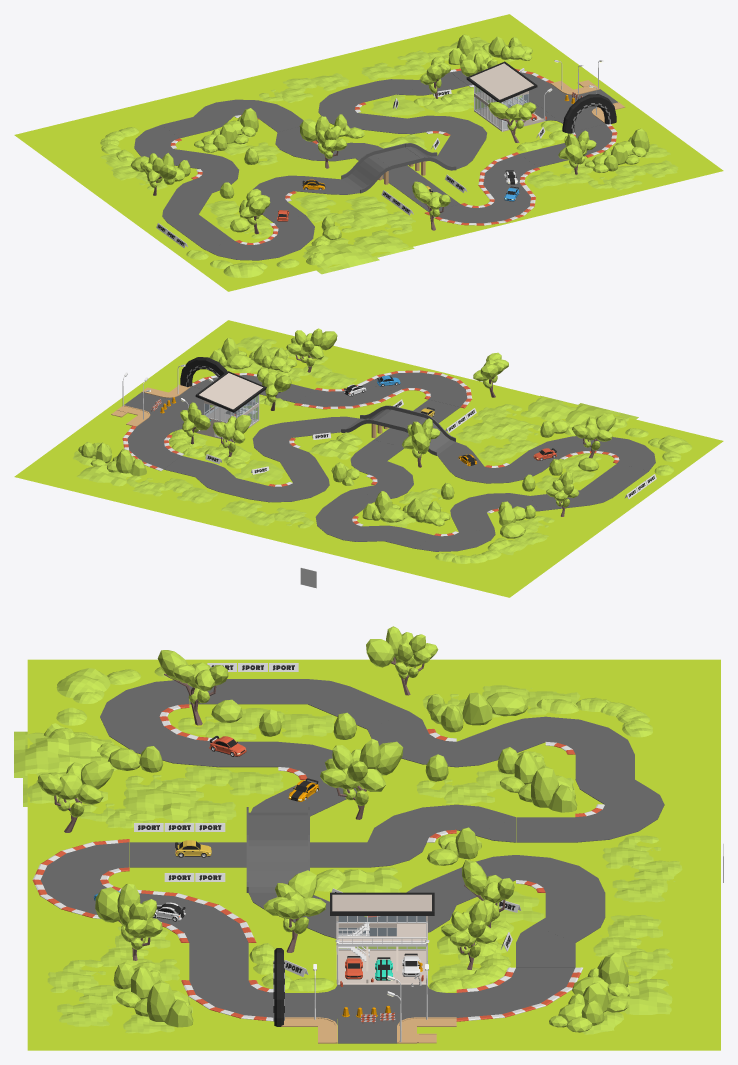
Rendered from track.glb.
3 views of the same model, one above another, from view 1: azimuth 30°, elevation 25°; view 2: azimuth 150°, elevation 25°; view 3: azimuth 270°, elevation 25° (orthographic). The views are drawn at different scales.
Parts seen in each view (by area): view 1: green_2, green, asphalt, wall, white, black, red, concrite, metal, glass, brown; view 2: green_2, green, asphalt, white, wall, black, red, concrite, metal, glass, brown; view 3: green_2, green, asphalt, white, wall, red, black, metal, concrite, brown, glass.
Part boxes in pixels (bbox=[...]): green_2: bbox=[14, 14, 723, 291]; green: bbox=[100, 34, 678, 277]; asphalt: bbox=[134, 70, 617, 260]; wall: bbox=[470, 63, 544, 131]; white: bbox=[156, 69, 616, 248]; black: bbox=[157, 61, 616, 245]; red: bbox=[170, 68, 617, 244]; concrite: bbox=[378, 80, 625, 184]; metal: bbox=[474, 60, 603, 131]; glass: bbox=[475, 86, 528, 129]; brown: bbox=[153, 71, 581, 233]; green_2: bbox=[14, 320, 723, 597]; green: bbox=[73, 328, 691, 563]; asphalt: bbox=[124, 372, 655, 551]; white: bbox=[123, 370, 656, 536]; wall: bbox=[196, 373, 262, 440]; black: bbox=[180, 357, 654, 497]; red: bbox=[122, 370, 618, 536]; concrite: bbox=[111, 384, 409, 437]; metal: bbox=[122, 364, 259, 441]; glass: bbox=[205, 395, 257, 437]; brown: bbox=[151, 355, 597, 516]; green_2: bbox=[27, 659, 720, 1050]; green: bbox=[14, 626, 682, 1034]; asphalt: bbox=[40, 679, 664, 1043]; white: bbox=[33, 663, 604, 1021]; wall: bbox=[332, 894, 431, 984]; red: bbox=[32, 704, 602, 1021]; black: bbox=[138, 665, 515, 1026]; metal: bbox=[313, 916, 429, 1042]; concrite: bbox=[281, 1017, 456, 1043]; brown: bbox=[54, 657, 505, 1023]; glass: bbox=[338, 916, 425, 948].
Bounding box in the file's own units: 93.45 × 15.37 × 71.68.
